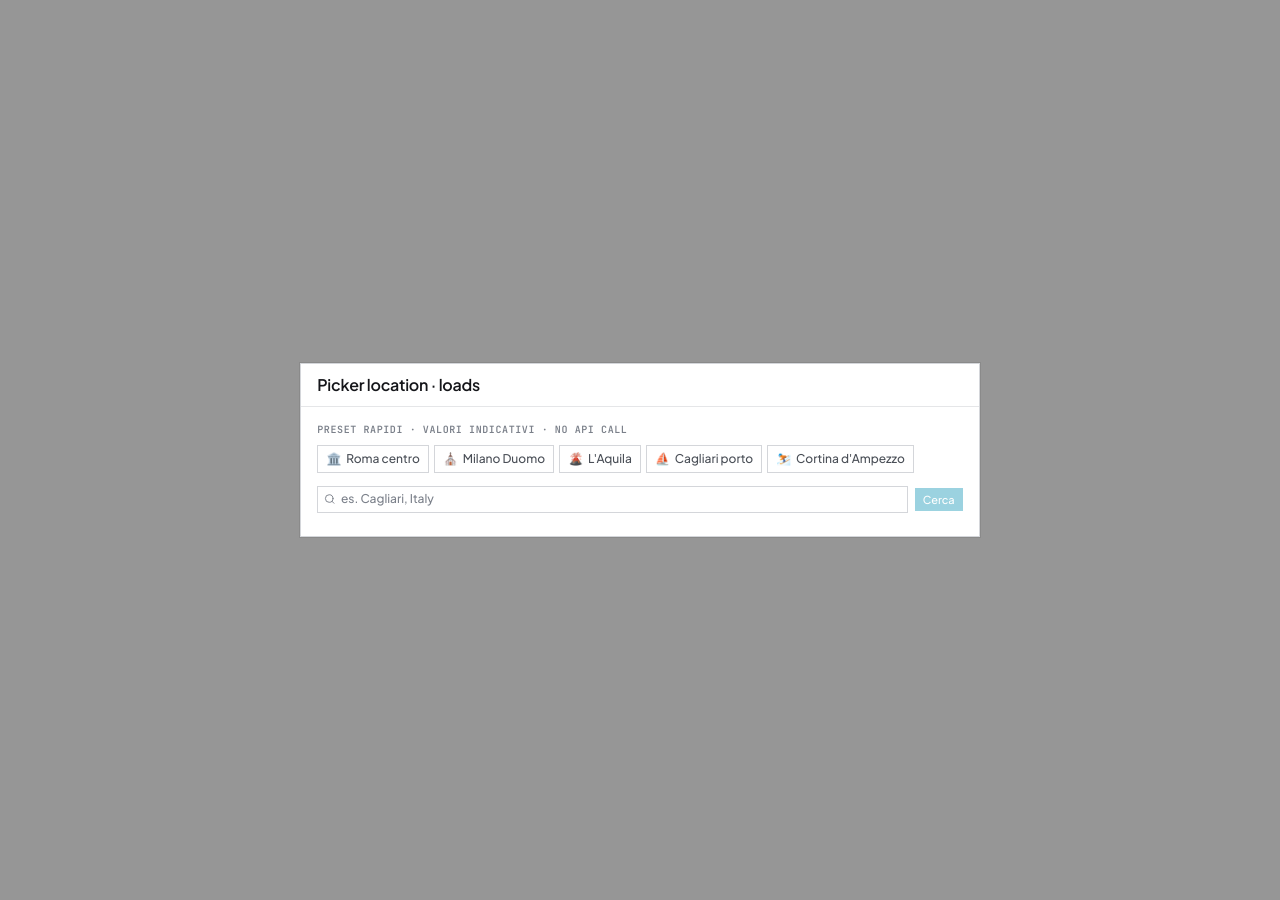
Scenario: LocationPickerDialog › on result click loads detail with elevation + loads
The width and height of the screenshot is (1280, 900).
Type "Cagliari" into the field with test id "location-search-input". click: (613, 499)
box: [317,486,908,513]
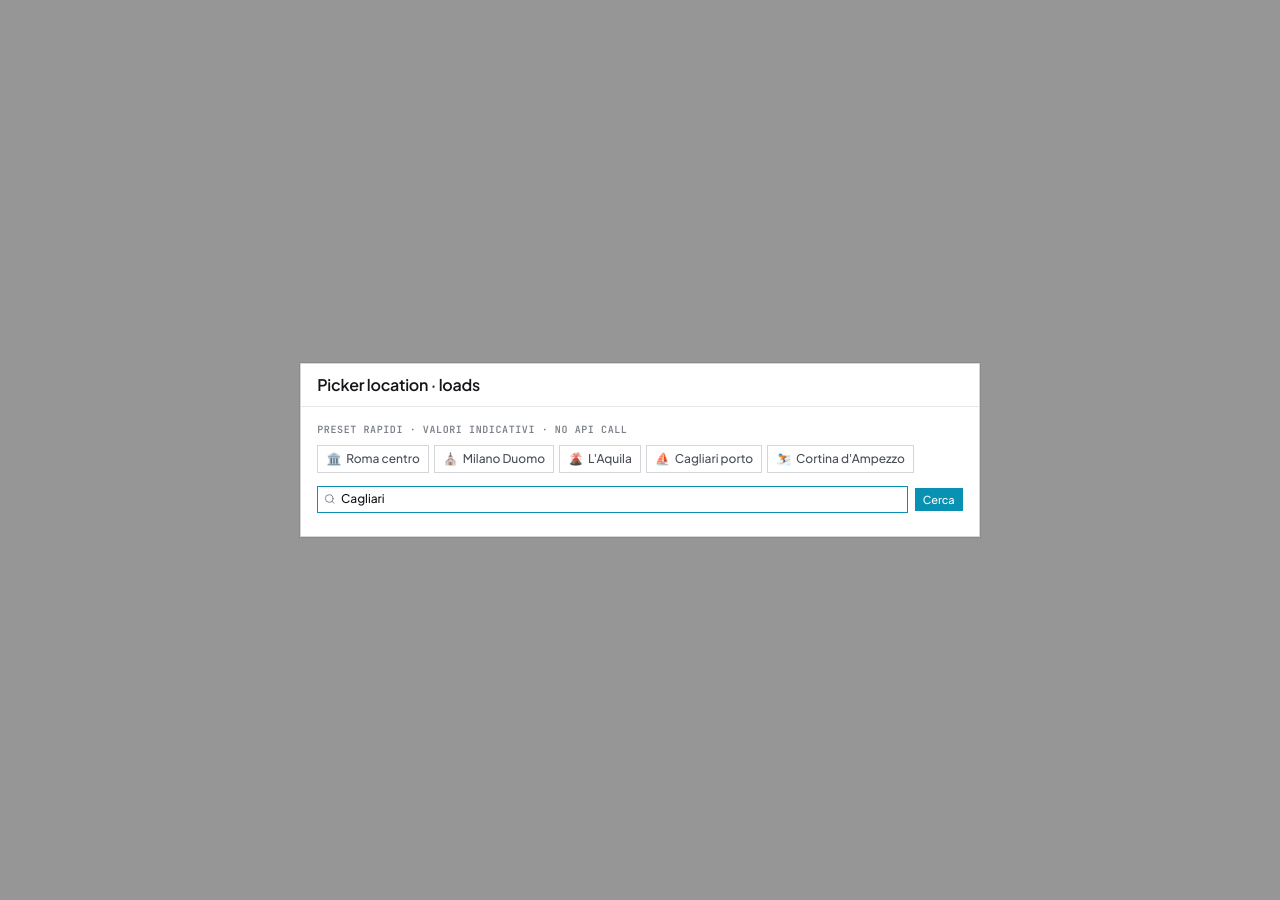
Click the button with test id "location-search-submit". click: (939, 499)
box: [914,488,963,511]
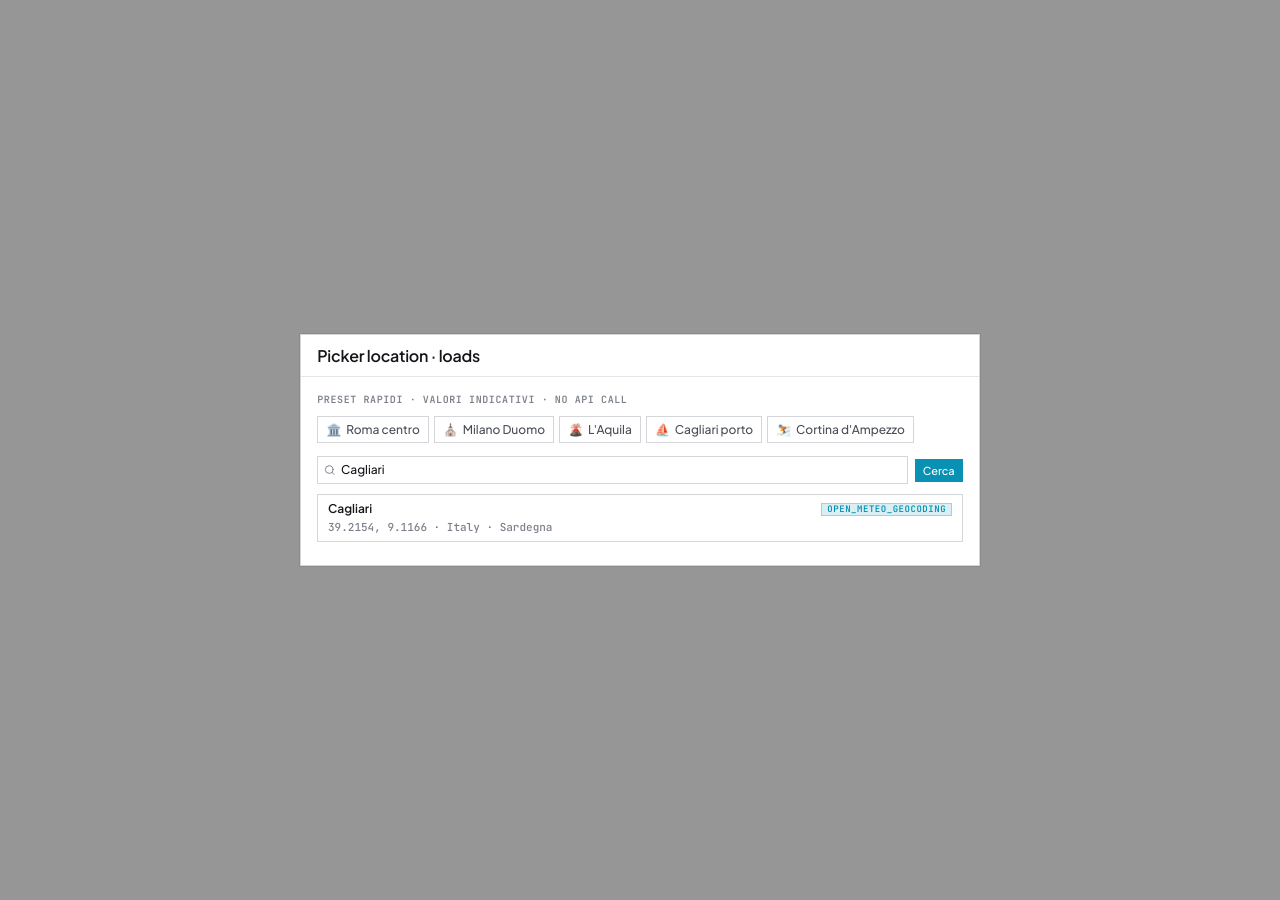
Now the button with test id "location-result-0" is shown
Click the button with test id "location-result-0". click: (350, 509)
box: [317,494,963,542]
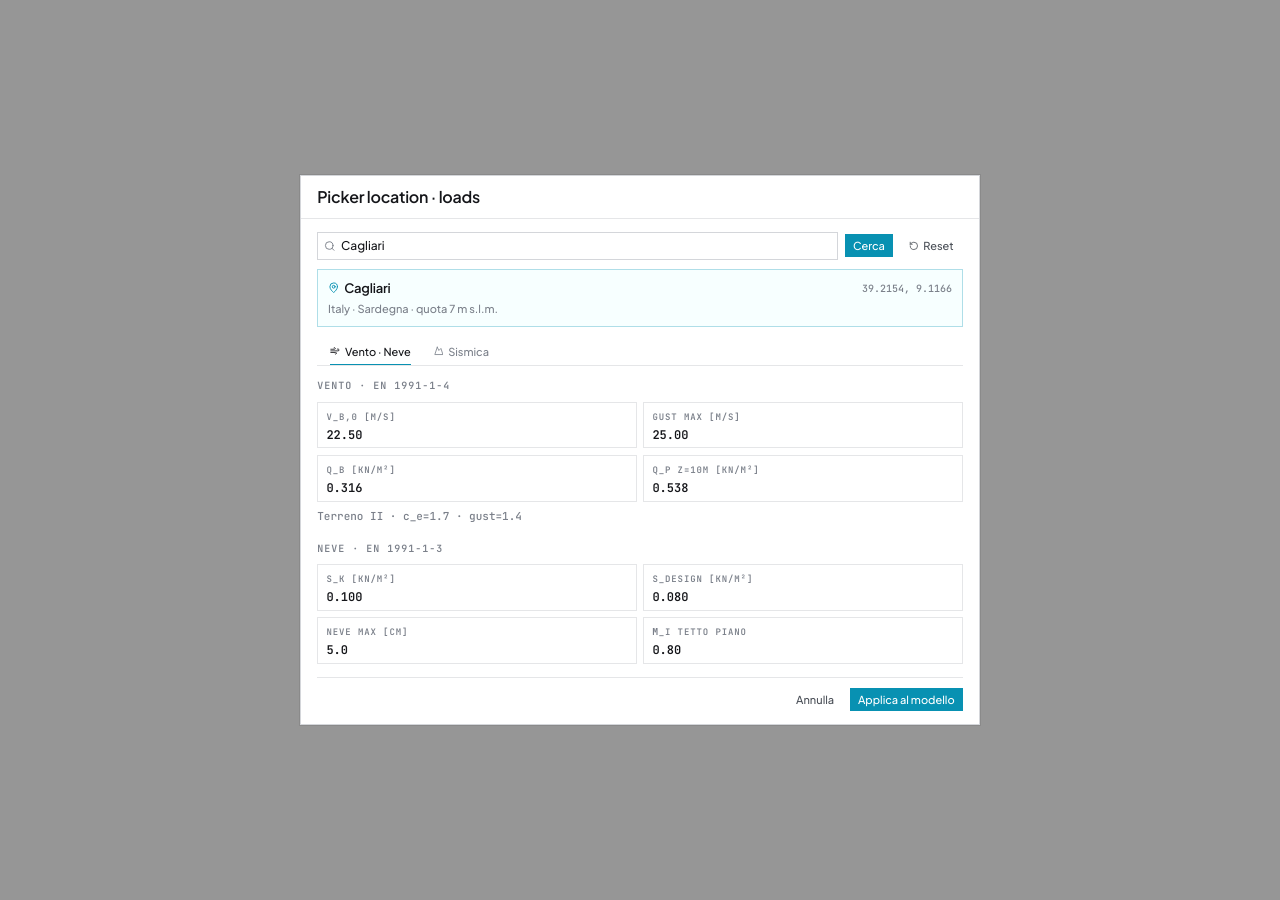
Now the element with test id "location-detail" is shown, box [317,269,963,710]
